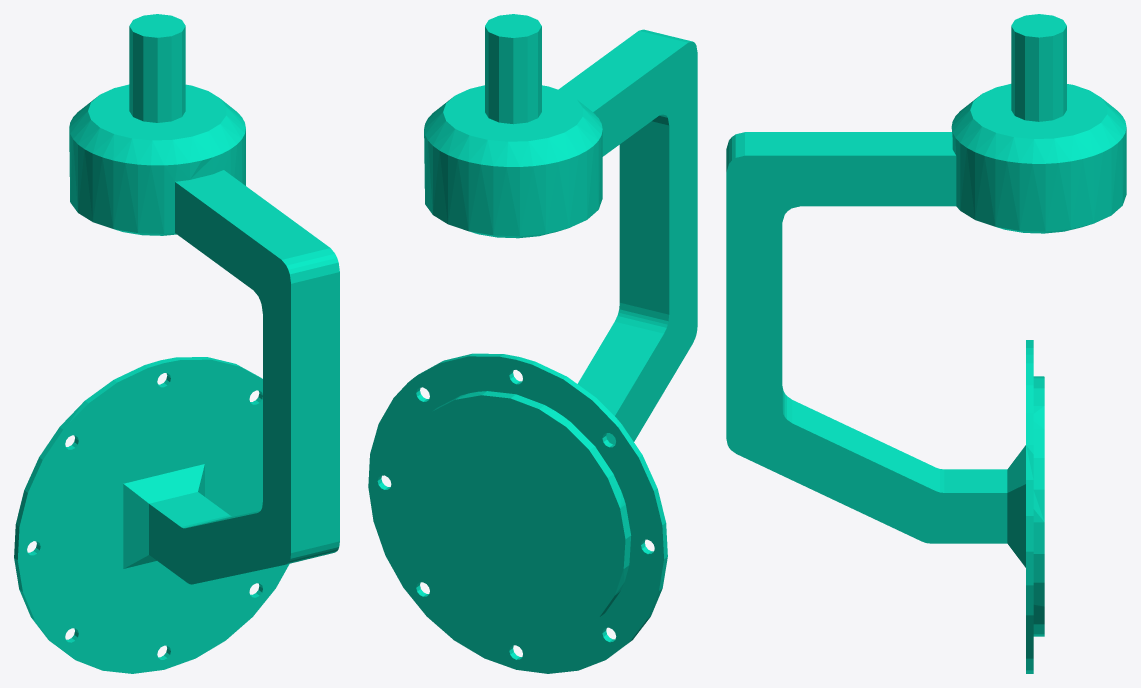
The model's file is BogieLF.dae.
The picture shows the model from 3 angles, left to right: view 1: azimuth 30°, elevation 25°; view 2: azimuth 150°, elevation 25°; view 3: azimuth 270°, elevation 25°; orthographic projection. The views are drawn at different scales.
Visible parts, largest first — view 1: BogieLF; view 2: BogieLF; view 3: BogieLF.
Boxes of the visible parts, x1,y1,x2,y2 form: BogieLF: (14, 14, 339, 673); BogieLF: (368, 14, 697, 673); BogieLF: (726, 14, 1126, 673).
Bounding box in the file's own units: 0.1797 × 0.215 × 0.375.
